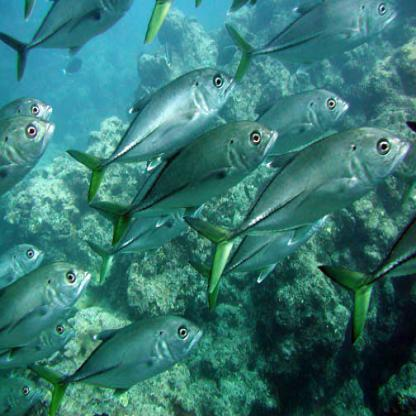jack: (192, 123, 412, 299), (91, 113, 279, 248), (67, 64, 240, 210), (35, 304, 210, 414), (215, 1, 399, 64)
